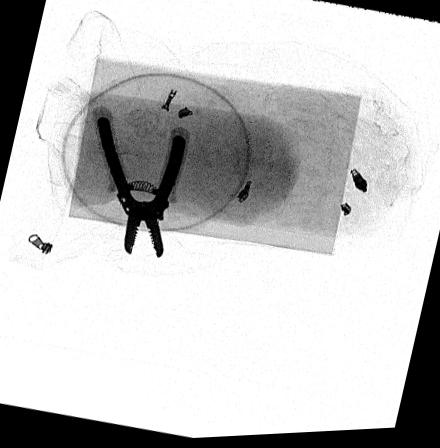Pliers: (94, 117, 188, 260)
